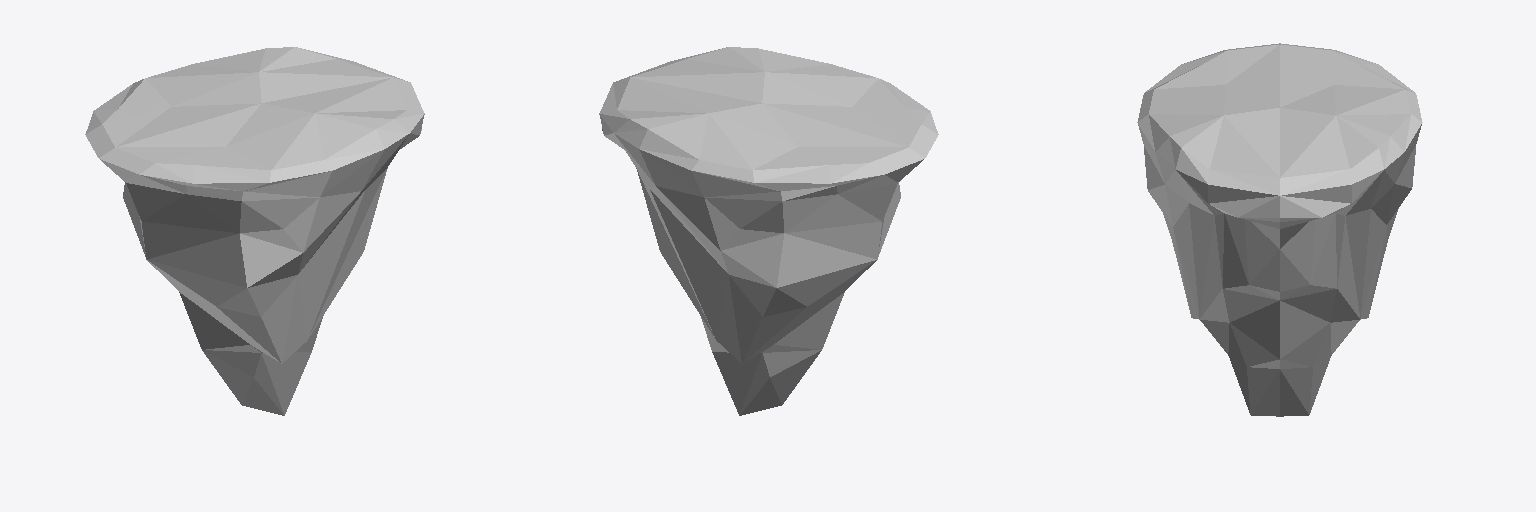
File: netherstorm_overhangrock_large_01.phys.obj
3 renders of one model, left to right at view 1: azimuth 30°, elevation 25°; view 2: azimuth 150°, elevation 25°; view 3: azimuth 270°, elevation 25°, orthographic.
Bounding box in the file's own units: 71.19 × 67.28 × 55.84.